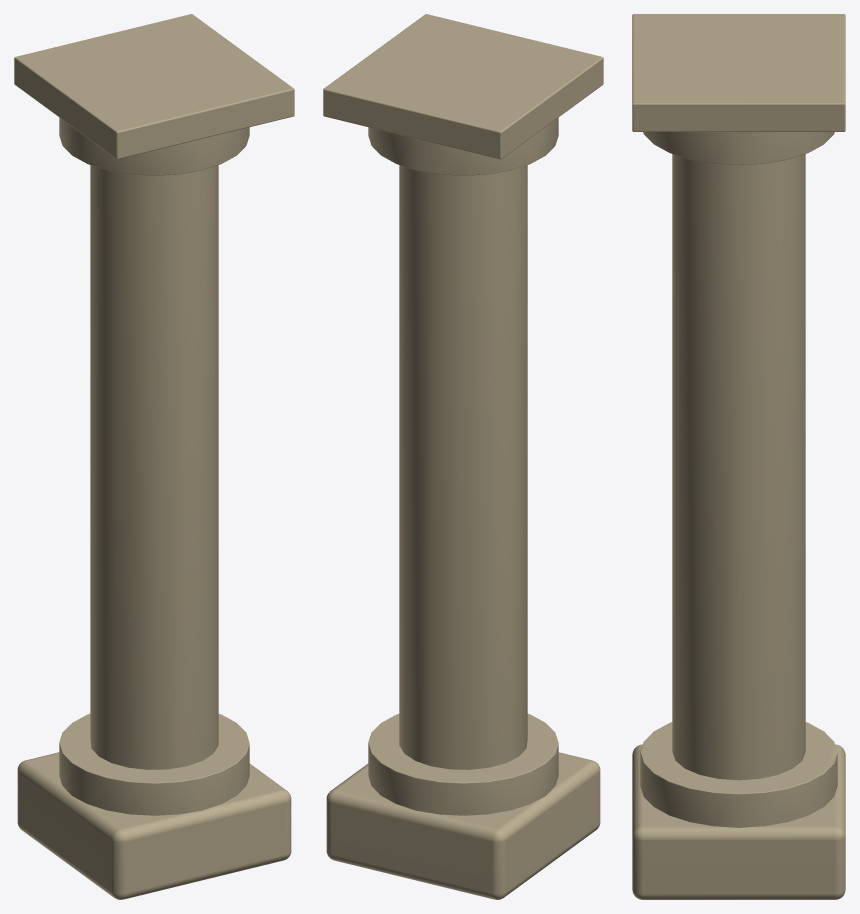
Rendered from temple-column.glb.
3 renders of one model, left to right at view 1: azimuth 30°, elevation 25°; view 2: azimuth 150°, elevation 25°; view 3: azimuth 270°, elevation 25°, orthographic. The views are drawn at different scales.
Visible parts, largest first — view 1: temple-column - Room Review mineral stone runtime PBR; view 2: temple-column - Room Review mineral stone runtime PBR; view 3: temple-column - Room Review mineral stone runtime PBR.
Boxes of the visible parts, <box> form: temple-column - Room Review mineral stone runtime PBR: <box>14,14,294,899</box>; temple-column - Room Review mineral stone runtime PBR: <box>323,14,603,899</box>; temple-column - Room Review mineral stone runtime PBR: <box>632,14,845,899</box>.
Bounding box in the file's own units: 0.8 × 3.31 × 0.8.
